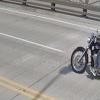Motorcycle: (59, 36, 100, 82)
